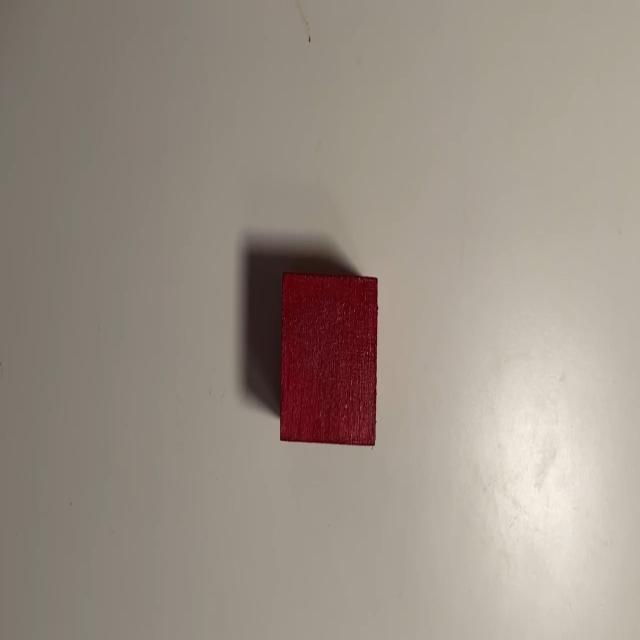red_block: (277, 271, 381, 448)
